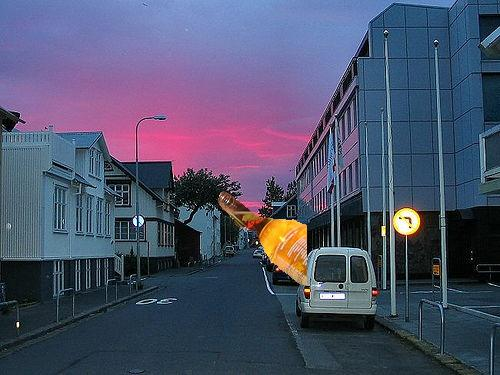tampered: (219, 192, 307, 285)
